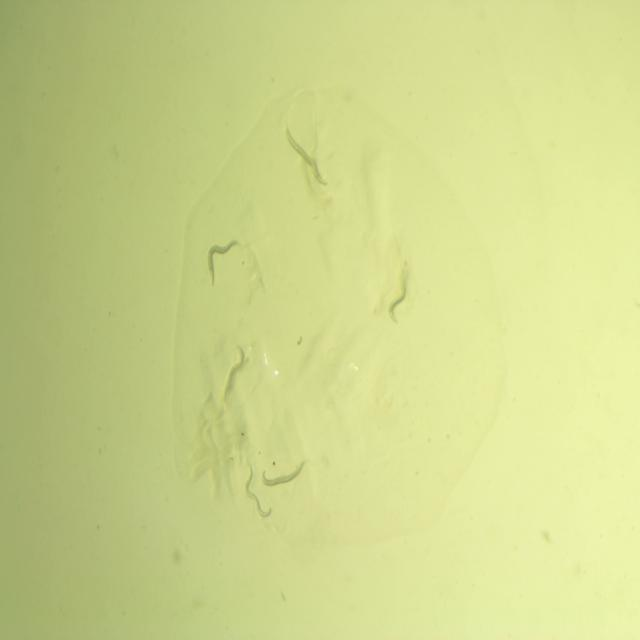worm: (282, 123, 332, 190), (204, 230, 243, 292), (242, 462, 275, 525), (221, 338, 247, 404), (258, 457, 307, 492), (385, 266, 411, 330)
